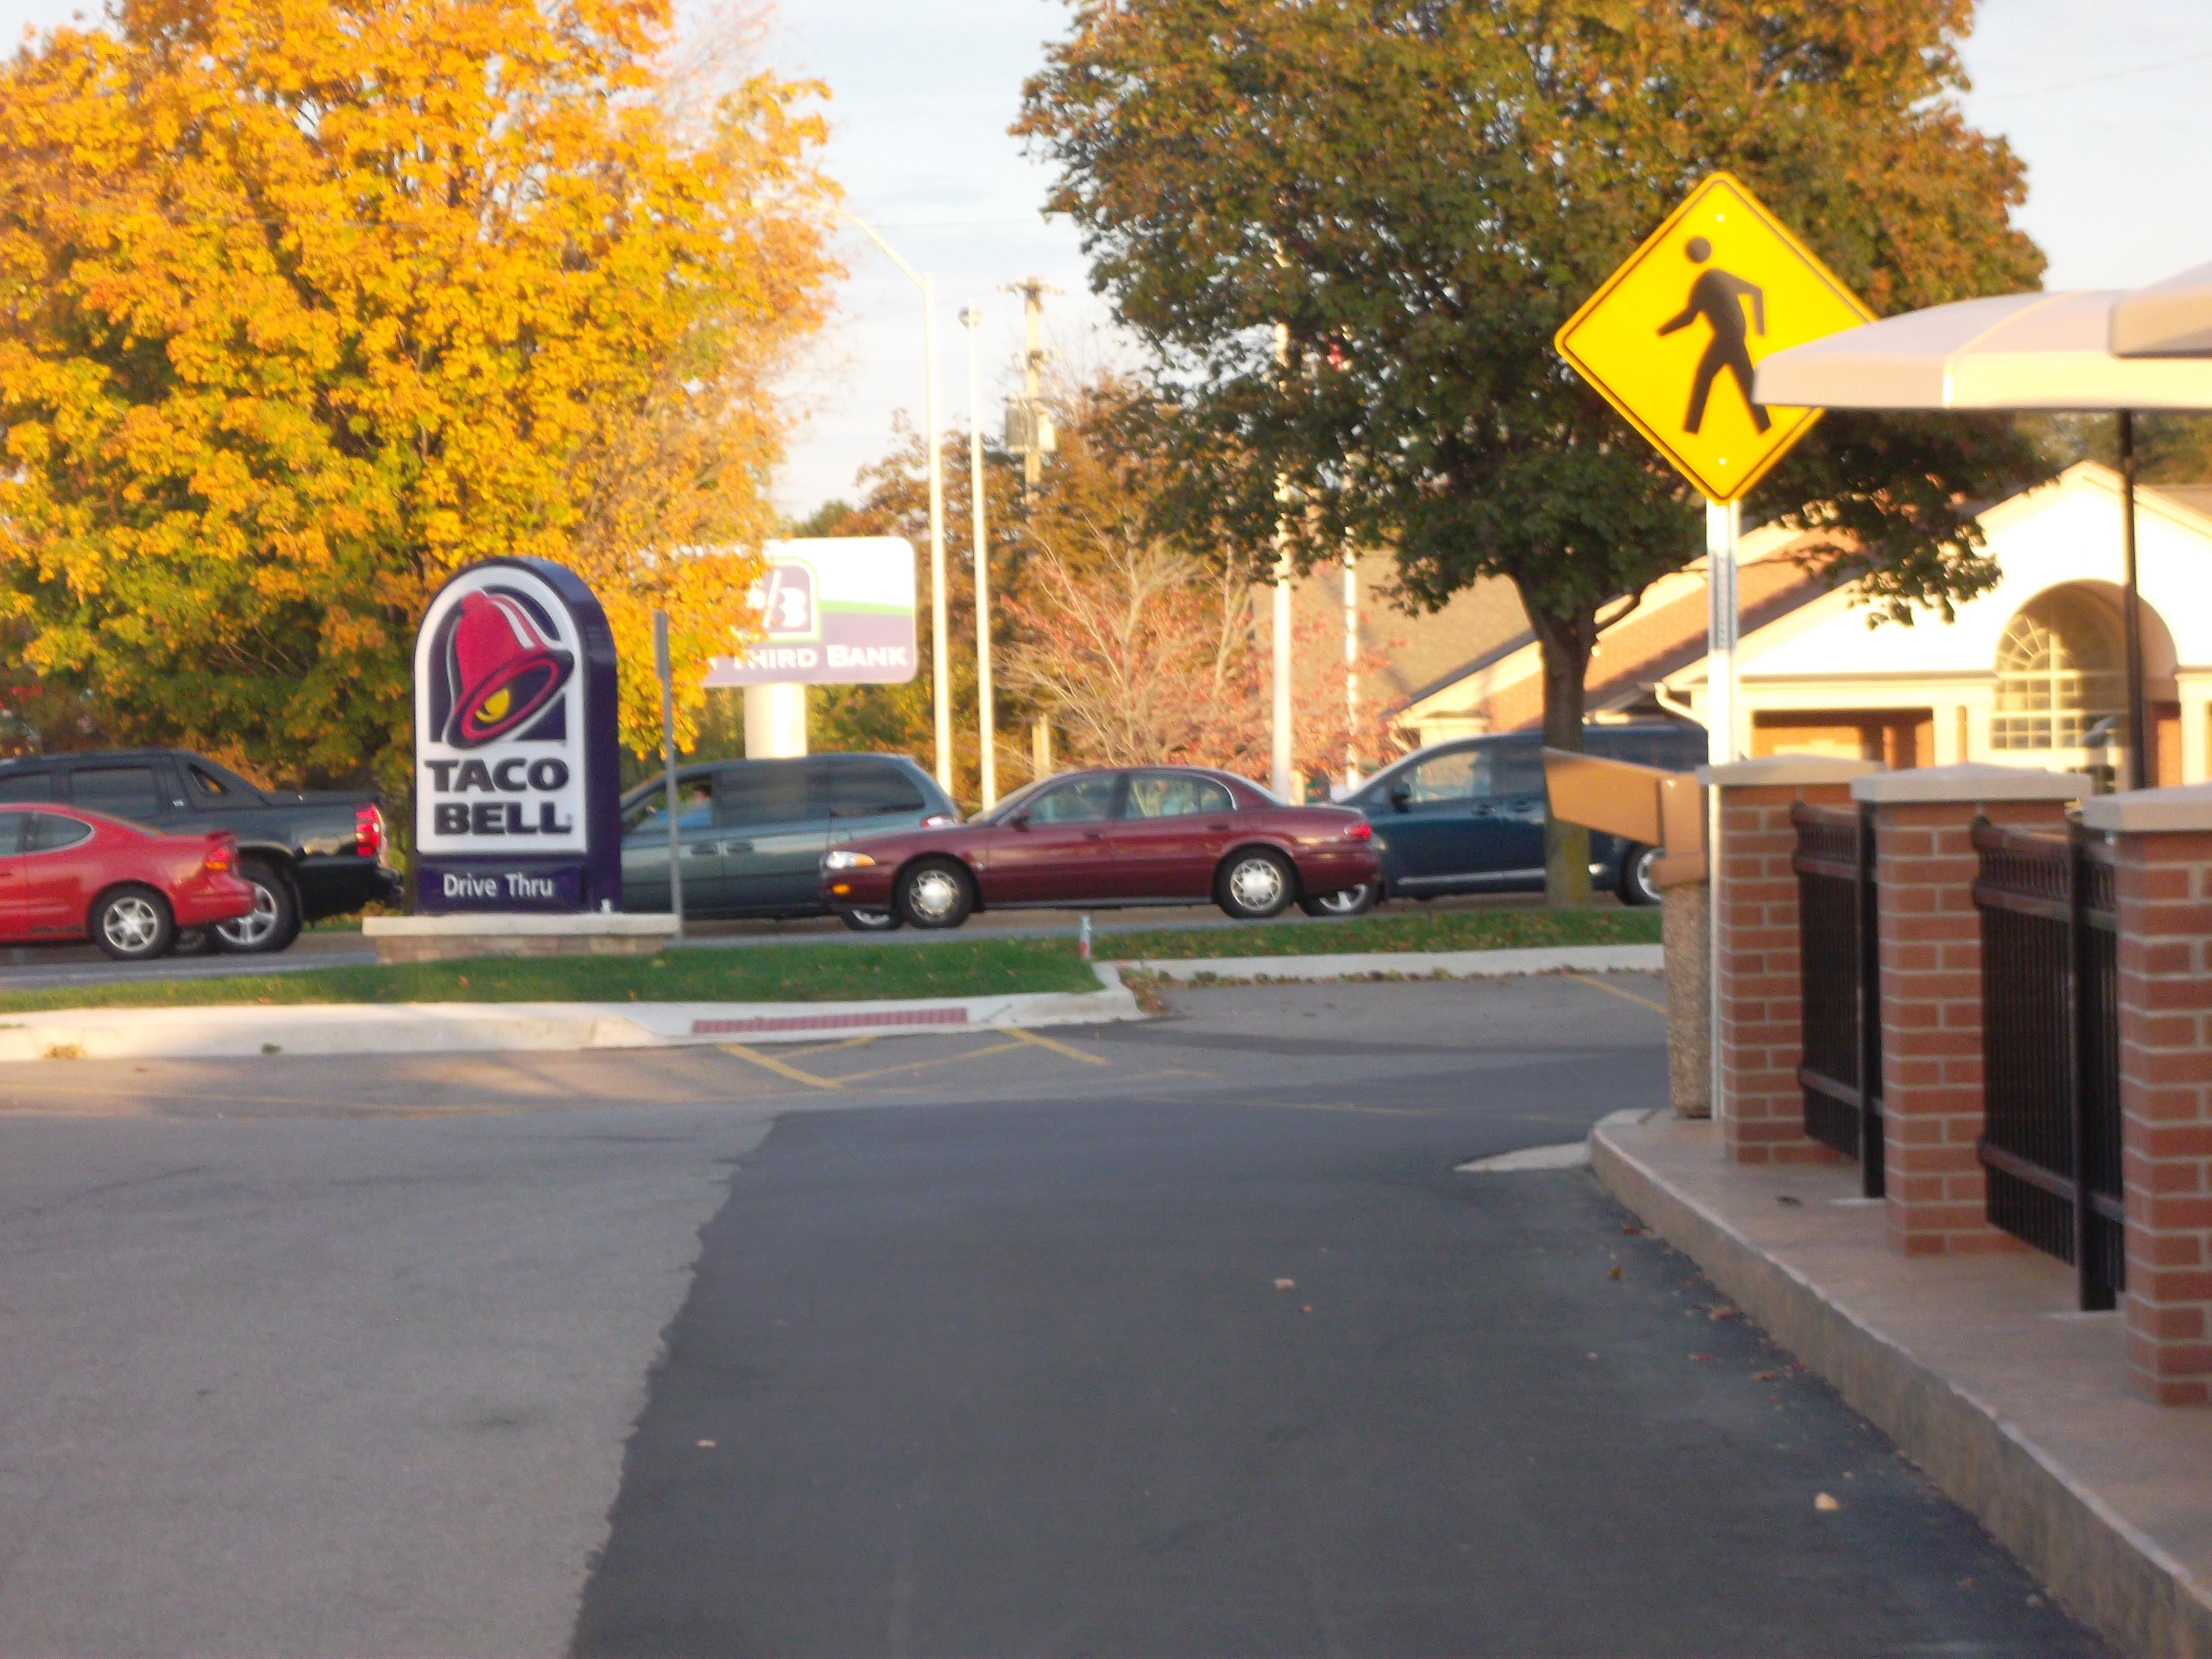warning: (1547, 164, 1872, 511)
